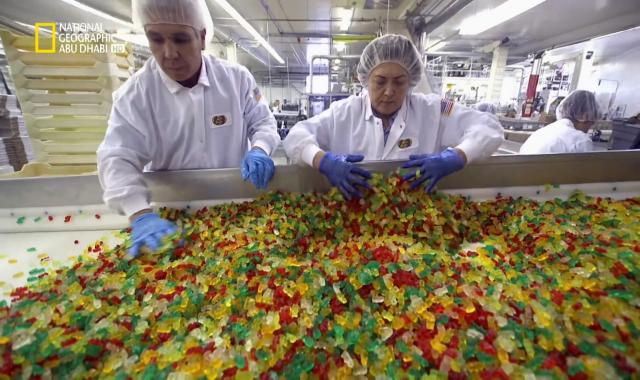hairnet: (127, 1, 220, 49), (355, 34, 424, 94), (557, 90, 601, 128)
